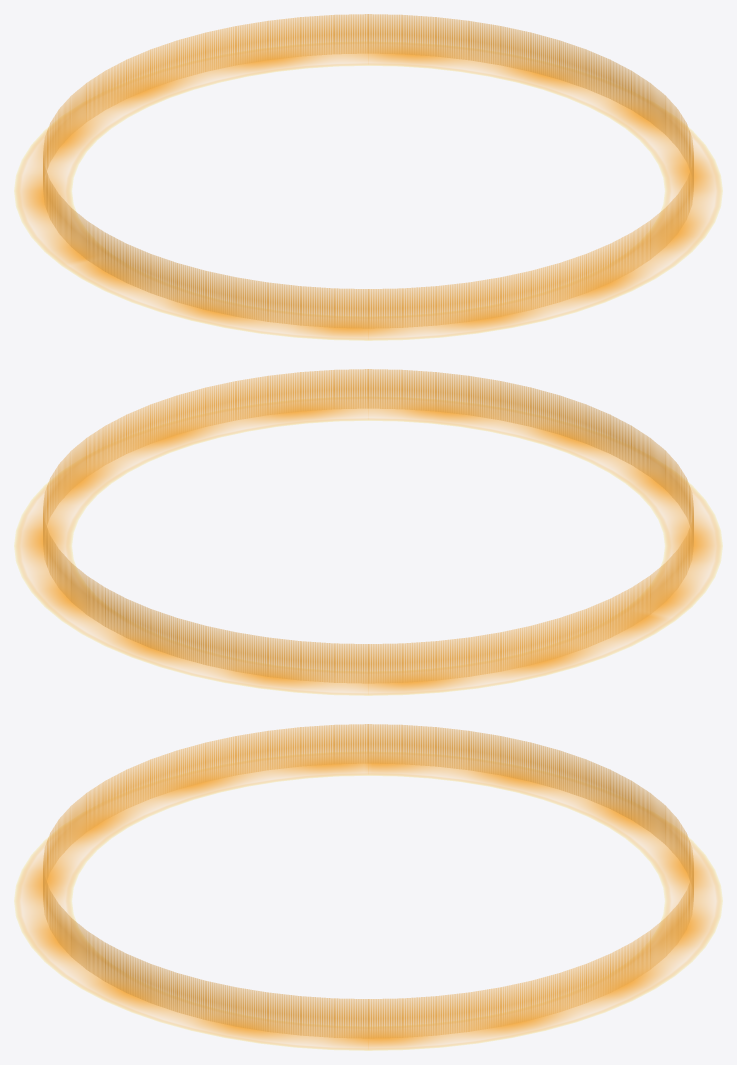
Rendered from fx_mring2.glb.
3 renders of one model, top to bottom at view 1: azimuth 30°, elevation 25°; view 2: azimuth 150°, elevation 25°; view 3: azimuth 270°, elevation 25°, orthographic.
Visible parts, largest first — view 1: fx_burst; view 2: fx_burst; view 3: fx_burst.
Part boxes in pixels (x1,y1,x2,y2): fx_burst: [14, 14, 722, 340]; fx_burst: [14, 369, 722, 695]; fx_burst: [14, 724, 722, 1050].
Size of the model in its own units: 24.4 by 1.5 by 24.4.
1 material, 1 textured.
